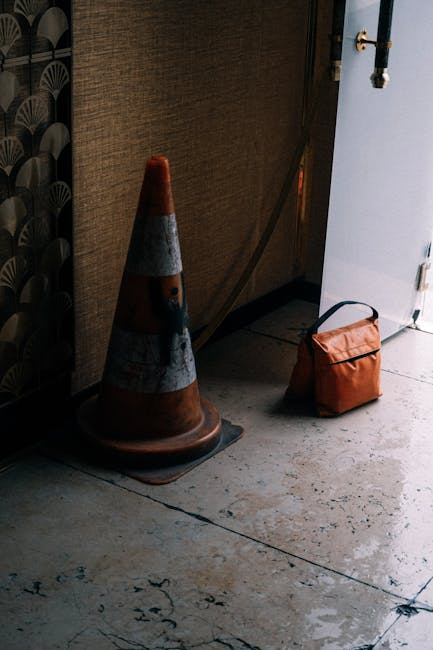traffic_cone: (75, 154, 229, 478)
